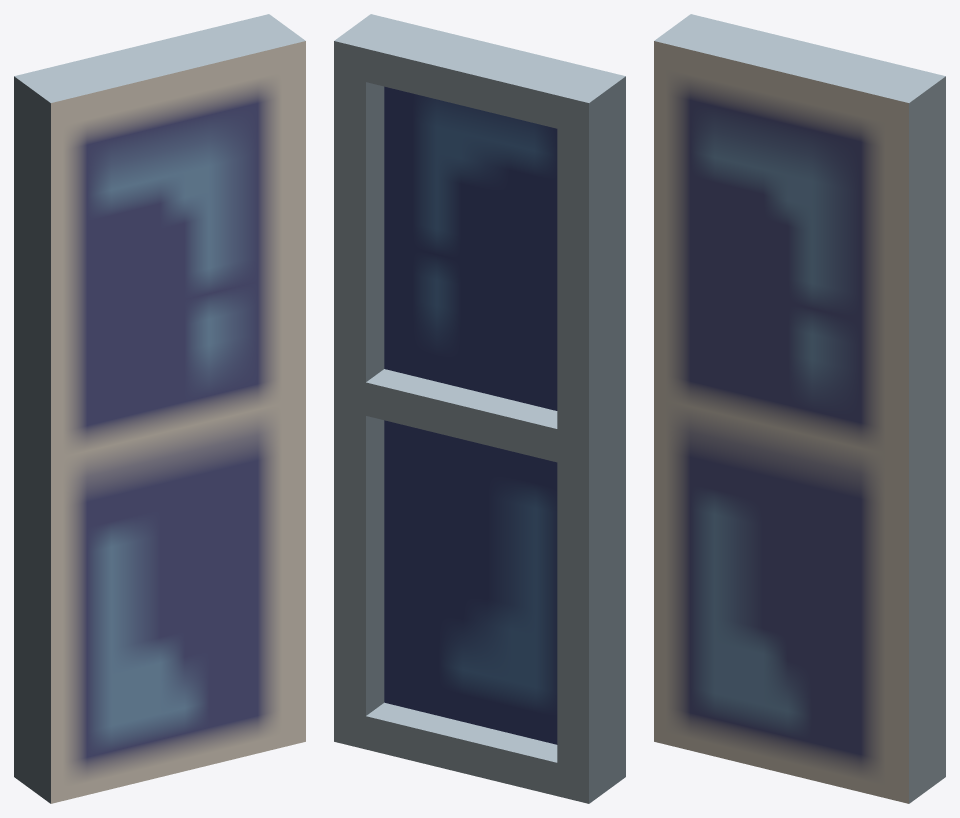
File: DoorC_L.fbx
3 views of the same model, side by side, from view 1: azimuth 30°, elevation 25°; view 2: azimuth 150°, elevation 25°; view 3: azimuth 330°, elevation 25° (orthographic).
Parts seen in each view (by area): view 1: DoorC_L; view 2: DoorC_L; view 3: DoorC_L.
Boxes of the visible parts, x1,y1,x2,y2 form: DoorC_L: (14, 14, 305, 803); DoorC_L: (334, 14, 625, 803); DoorC_L: (654, 14, 945, 803).
Bounding box in the file's own units: 8 × 21 × 2.
